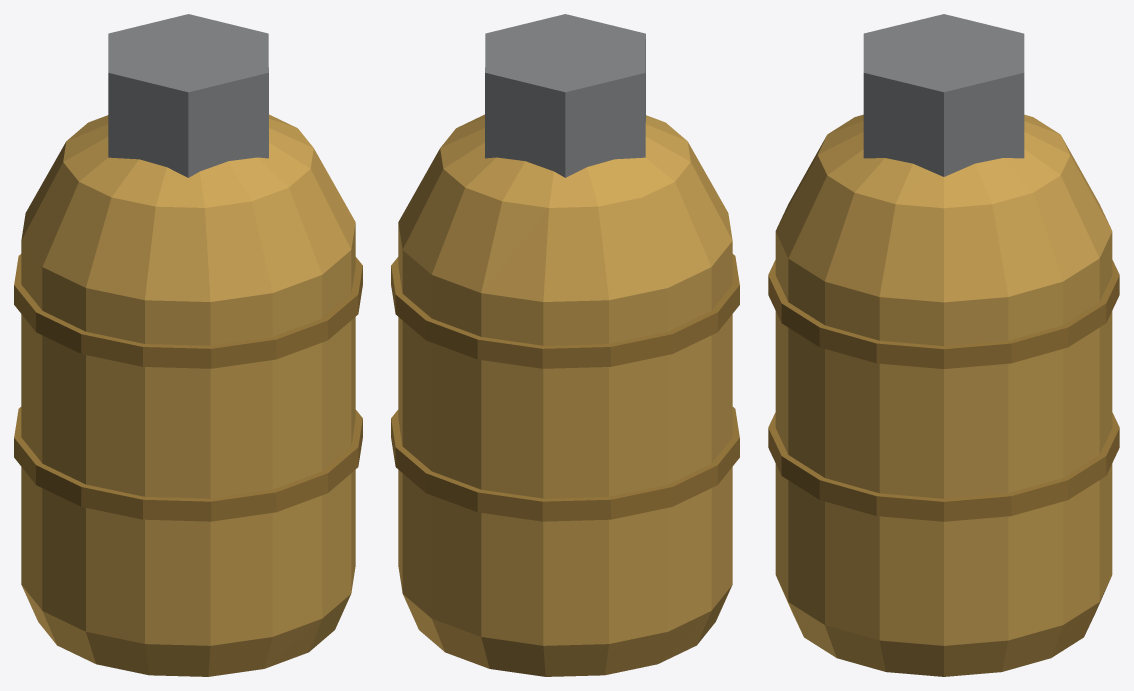
The model's file is vge_item_oxygen_canister_a.obj.
The picture shows the model from 3 angles, left to right: view 1: azimuth 30°, elevation 25°; view 2: azimuth 150°, elevation 25°; view 3: azimuth 270°, elevation 25°; orthographic projection.
Visible parts, largest first — view 1: vge_item_oxygen_canister_a_0, vge_item_oxygen_canister_a_3, vge_item_oxygen_canister_a_2, vge_item_oxygen_canister_a_1; view 2: vge_item_oxygen_canister_a_0, vge_item_oxygen_canister_a_3, vge_item_oxygen_canister_a_2, vge_item_oxygen_canister_a_1; view 3: vge_item_oxygen_canister_a_0, vge_item_oxygen_canister_a_3, vge_item_oxygen_canister_a_1, vge_item_oxygen_canister_a_2.
Part boxes in pixels (bbox=[...]): vge_item_oxygen_canister_a_0: bbox=[21, 114, 355, 676]; vge_item_oxygen_canister_a_3: bbox=[108, 14, 268, 177]; vge_item_oxygen_canister_a_2: bbox=[14, 254, 362, 368]; vge_item_oxygen_canister_a_1: bbox=[14, 407, 362, 521]; vge_item_oxygen_canister_a_0: bbox=[398, 114, 732, 676]; vge_item_oxygen_canister_a_3: bbox=[485, 14, 645, 177]; vge_item_oxygen_canister_a_2: bbox=[391, 254, 739, 368]; vge_item_oxygen_canister_a_1: bbox=[391, 407, 739, 521]; vge_item_oxygen_canister_a_0: bbox=[775, 114, 1112, 676]; vge_item_oxygen_canister_a_3: bbox=[863, 14, 1024, 176]; vge_item_oxygen_canister_a_1: bbox=[768, 412, 1119, 521]; vge_item_oxygen_canister_a_2: bbox=[768, 260, 1119, 368].
Size of the model in its own units: 0.288 by 0.506 by 0.288.
